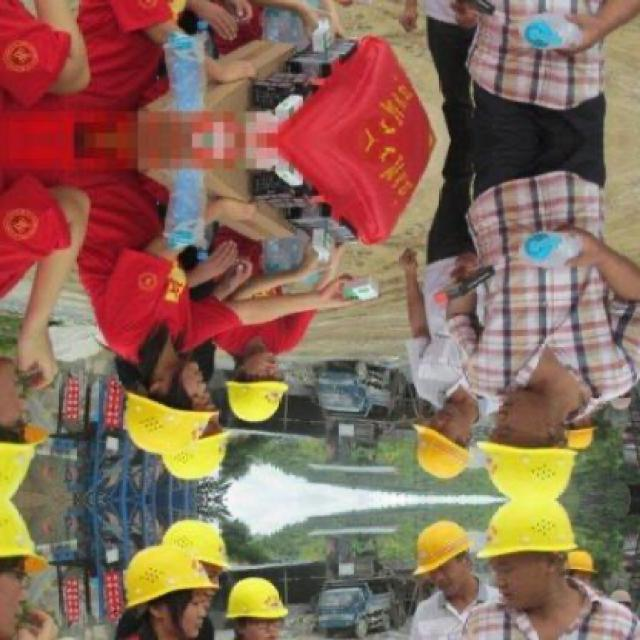con casco: (362, 386, 508, 504), (468, 383, 589, 493), (137, 366, 241, 464), (242, 348, 343, 425), (0, 364, 40, 499), (192, 415, 243, 483)
